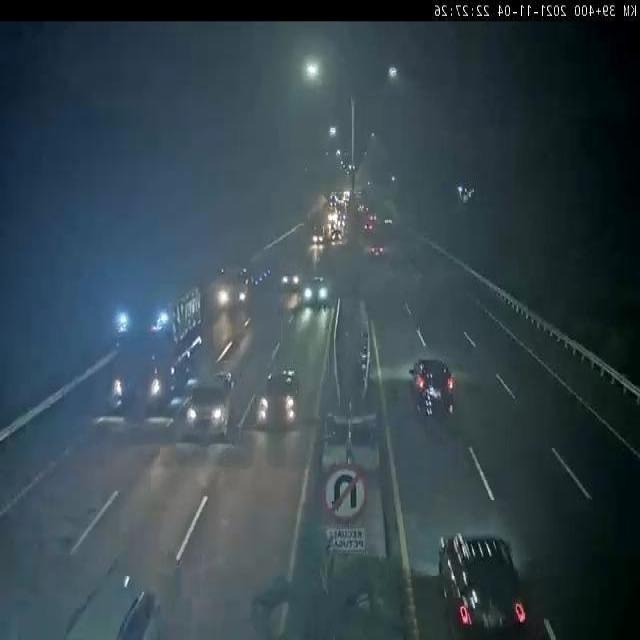Car: (438, 533, 526, 636), (58, 570, 160, 640), (187, 372, 235, 438), (409, 360, 456, 418), (257, 372, 301, 426), (305, 276, 330, 304), (280, 268, 302, 292), (369, 245, 386, 258)
Truck: (107, 286, 202, 412), (216, 263, 272, 309)
